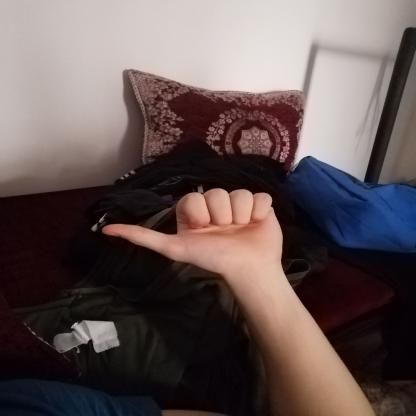DAD: (92, 179, 291, 284)
